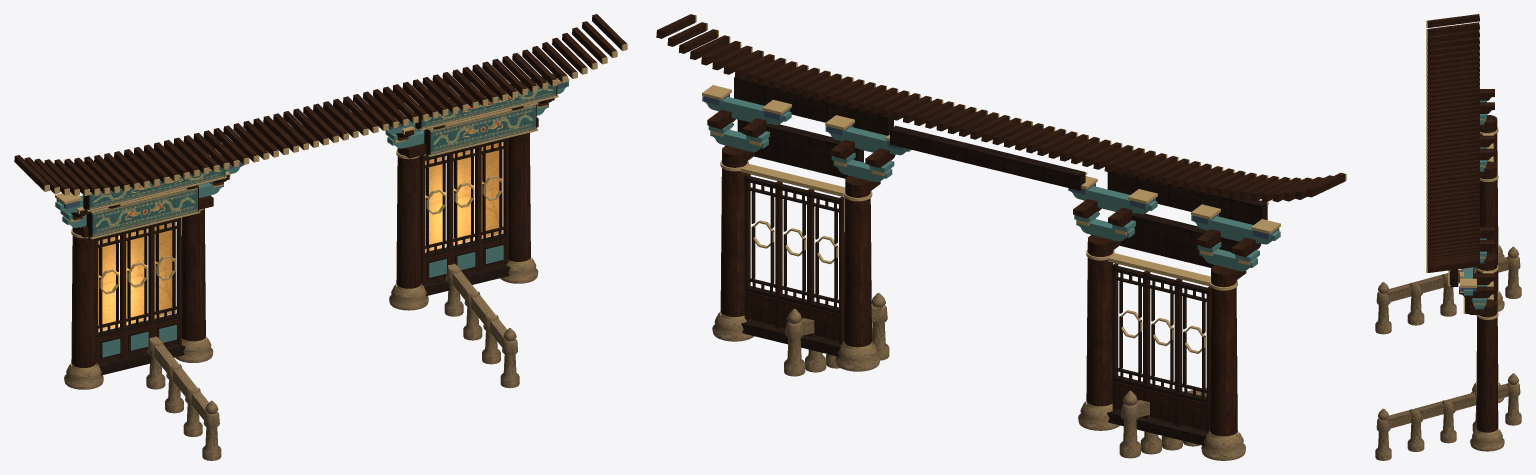
Rendered from BelfryPaintedFront.glb.
3 views of the same model, side by side, from view 1: azimuth 30°, elevation 25°; view 2: azimuth 150°, elevation 25°; view 3: azimuth 270°, elevation 25° (orthographic). The views are drawn at different scales.
Visible parts, largest first — view 1: Oxide-red posts, Carved column plinth, Smoked timber, Lit mulberry paper, Paired dragons on the tie beam, Worn ochre on cut edges, Mineral green bracket ends; view 2: Oxide-red posts, Smoked timber, Carved column plinth, Mineral green bracket ends, Worn ochre on cut edges, Indigo soffit; view 3: Oxide-red posts, Carved column plinth, Worn ochre on cut edges, Mineral green bracket ends, Smoked timber.
Part boxes in pixels (left/top/right/bottom): Oxide-red posts: left=14, top=14, right=626, bottom=367; Carved column plinth: left=64, top=248, right=538, bottom=460; Smoked timber: left=83, top=73, right=557, bottom=375; Lit mulberry paper: left=98, top=142, right=502, bottom=331; Paired dragons on the tie beam: left=89, top=82, right=556, bottom=237; Worn ochre on cut edges: left=44, top=44, right=627, bottom=370; Mineral green bracket ends: left=55, top=81, right=568, bottom=357; Oxide-red posts: left=656, top=14, right=1345, bottom=436; Smoked timber: left=734, top=76, right=1267, bottom=445; Carved column plinth: left=712, top=293, right=1245, bottom=460; Mineral green bracket ends: left=702, top=96, right=1280, bottom=271; Worn ochre on cut edges: left=691, top=14, right=1346, bottom=439; Indigo soffit: left=704, top=94, right=1279, bottom=239; Oxide-red posts: left=1427, top=14, right=1498, bottom=432; Carved column plinth: left=1375, top=245, right=1521, bottom=460; Worn ochre on cut edges: left=1426, top=20, right=1498, bottom=434; Mineral green bracket ends: left=1464, top=100, right=1486, bottom=309; Smoked timber: left=1449, top=269, right=1473, bottom=313.
Bounding box in the file's own units: 13.51 × 6.55 × 3.38.
Materials: 8 (5 with a texture image).
